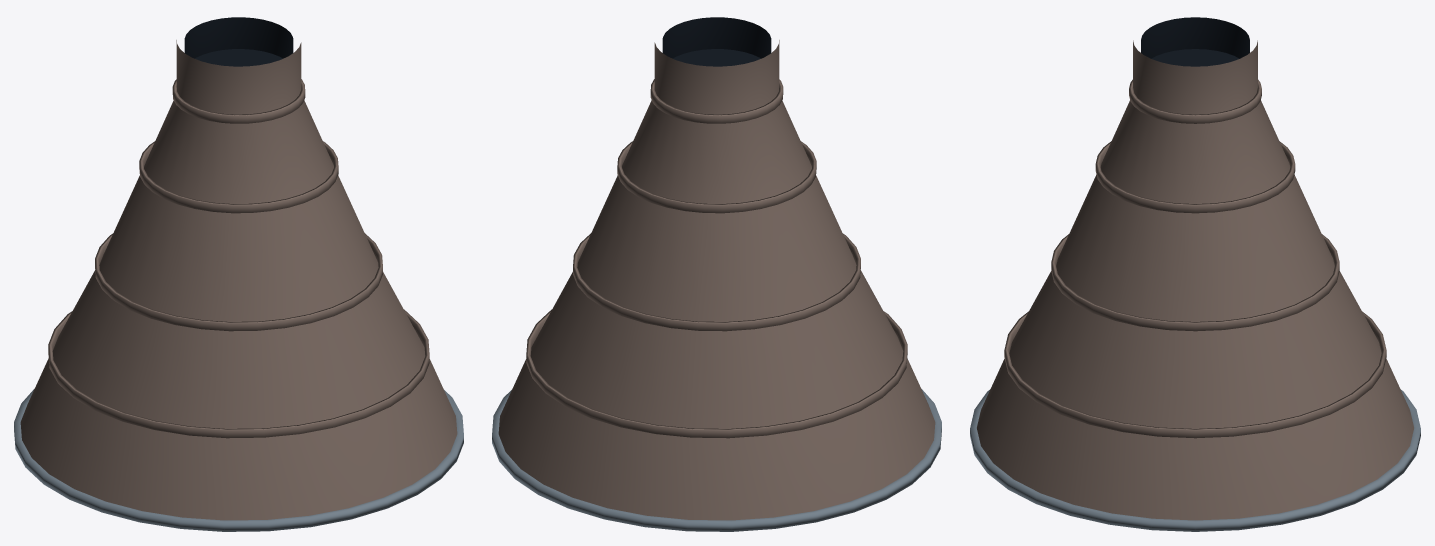
File: orion_cm.rcs_02.nozzle_01.glb
The picture shows the model from 3 angles, left to right: view 1: azimuth 30°, elevation 25°; view 2: azimuth 150°, elevation 25°; view 3: azimuth 270°, elevation 25°; orthographic projection.
Visible parts, largest first — view 1: orion_cm.rcs_02.nozzle_01.bell.mesh_Heat-stained_alloy, orion_cm.rcs_02.nozzle_01.bell.mesh_Machined_steel, orion_cm.rcs_02.nozzle_01.bell.mesh_Shadowed_interior; view 2: orion_cm.rcs_02.nozzle_01.bell.mesh_Heat-stained_alloy, orion_cm.rcs_02.nozzle_01.bell.mesh_Machined_steel, orion_cm.rcs_02.nozzle_01.bell.mesh_Shadowed_interior; view 3: orion_cm.rcs_02.nozzle_01.bell.mesh_Heat-stained_alloy, orion_cm.rcs_02.nozzle_01.bell.mesh_Machined_steel, orion_cm.rcs_02.nozzle_01.bell.mesh_Shadowed_interior.
Boxes of the visible parts, x1,y1,x2,y2 form: orion_cm.rcs_02.nozzle_01.bell.mesh_Heat-stained_alloy: [20, 40, 457, 520]; orion_cm.rcs_02.nozzle_01.bell.mesh_Machined_steel: [14, 389, 463, 531]; orion_cm.rcs_02.nozzle_01.bell.mesh_Shadowed_interior: [184, 17, 293, 66]; orion_cm.rcs_02.nozzle_01.bell.mesh_Heat-stained_alloy: [498, 40, 935, 520]; orion_cm.rcs_02.nozzle_01.bell.mesh_Machined_steel: [492, 389, 941, 531]; orion_cm.rcs_02.nozzle_01.bell.mesh_Shadowed_interior: [662, 17, 771, 66]; orion_cm.rcs_02.nozzle_01.bell.mesh_Heat-stained_alloy: [977, 40, 1413, 520]; orion_cm.rcs_02.nozzle_01.bell.mesh_Machined_steel: [970, 389, 1420, 531]; orion_cm.rcs_02.nozzle_01.bell.mesh_Shadowed_interior: [1141, 17, 1249, 66].
Size of the model in its own units: 0.1133 by 0.11 by 0.1133.
